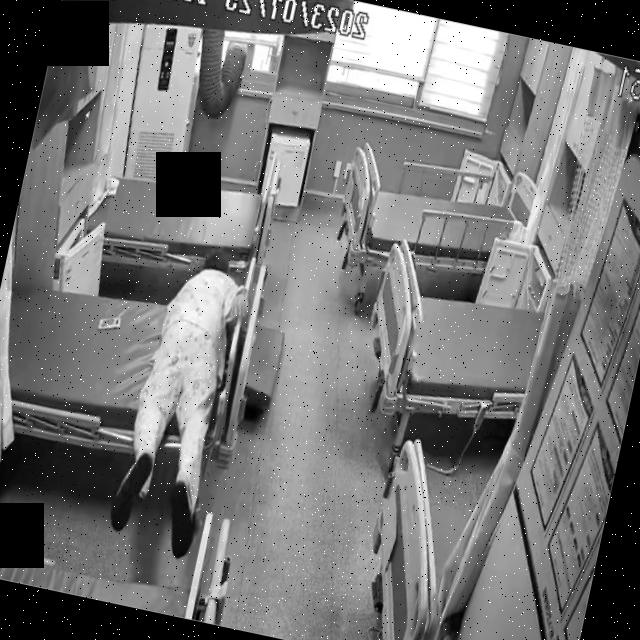bed: (0, 262, 243, 481), (348, 234, 554, 443), (333, 138, 539, 294), (80, 134, 282, 290)
danger: (103, 239, 260, 564)
patient: (102, 240, 260, 566)
